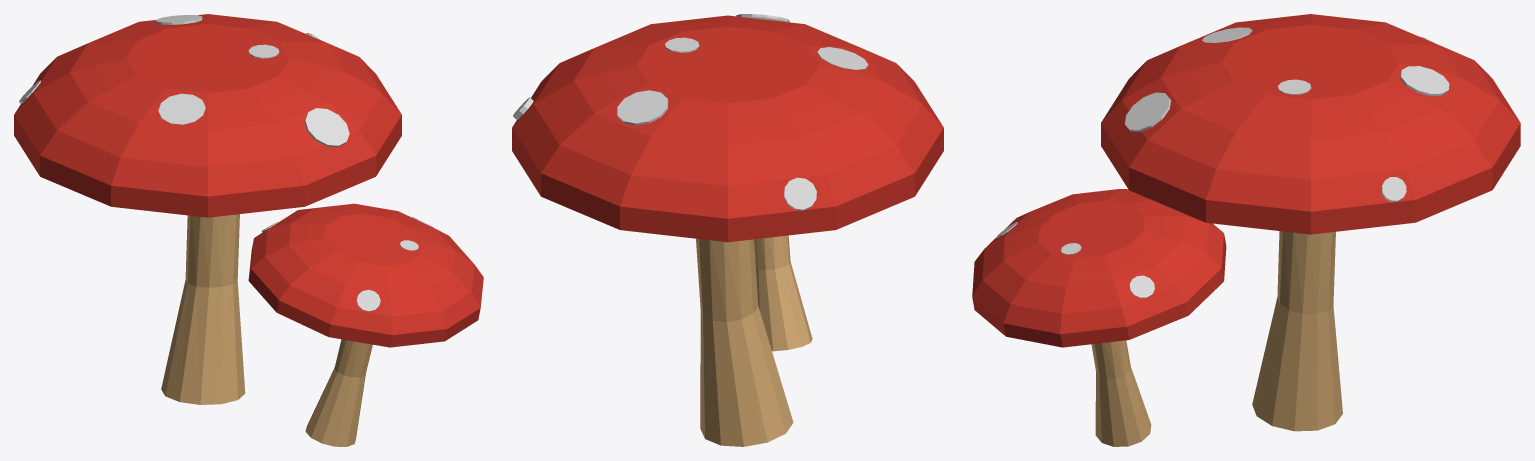
3 renders of one model, left to right at view 1: azimuth 30°, elevation 25°; view 2: azimuth 150°, elevation 25°; view 3: azimuth 270°, elevation 25°, orthographic. The views are drawn at different scales.
Visible parts, largest first — view 1: node_MeshObject-797874624-PolyPaper8; view 2: node_MeshObject-797874624-PolyPaper8; view 3: node_MeshObject-797874624-PolyPaper8.
Boxes of the visible parts, left/top/right/bottom form: node_MeshObject-797874624-PolyPaper8: left=14, top=14, right=483, bottom=446; node_MeshObject-797874624-PolyPaper8: left=512, top=14, right=943, bottom=446; node_MeshObject-797874624-PolyPaper8: left=972, top=14, right=1520, bottom=446.
Bounding box in the file's own units: 0.49 × 0.4621 × 0.6402.
